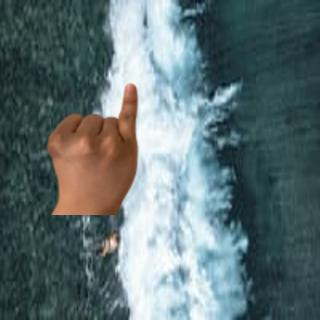FINE: (42, 77, 144, 211)
